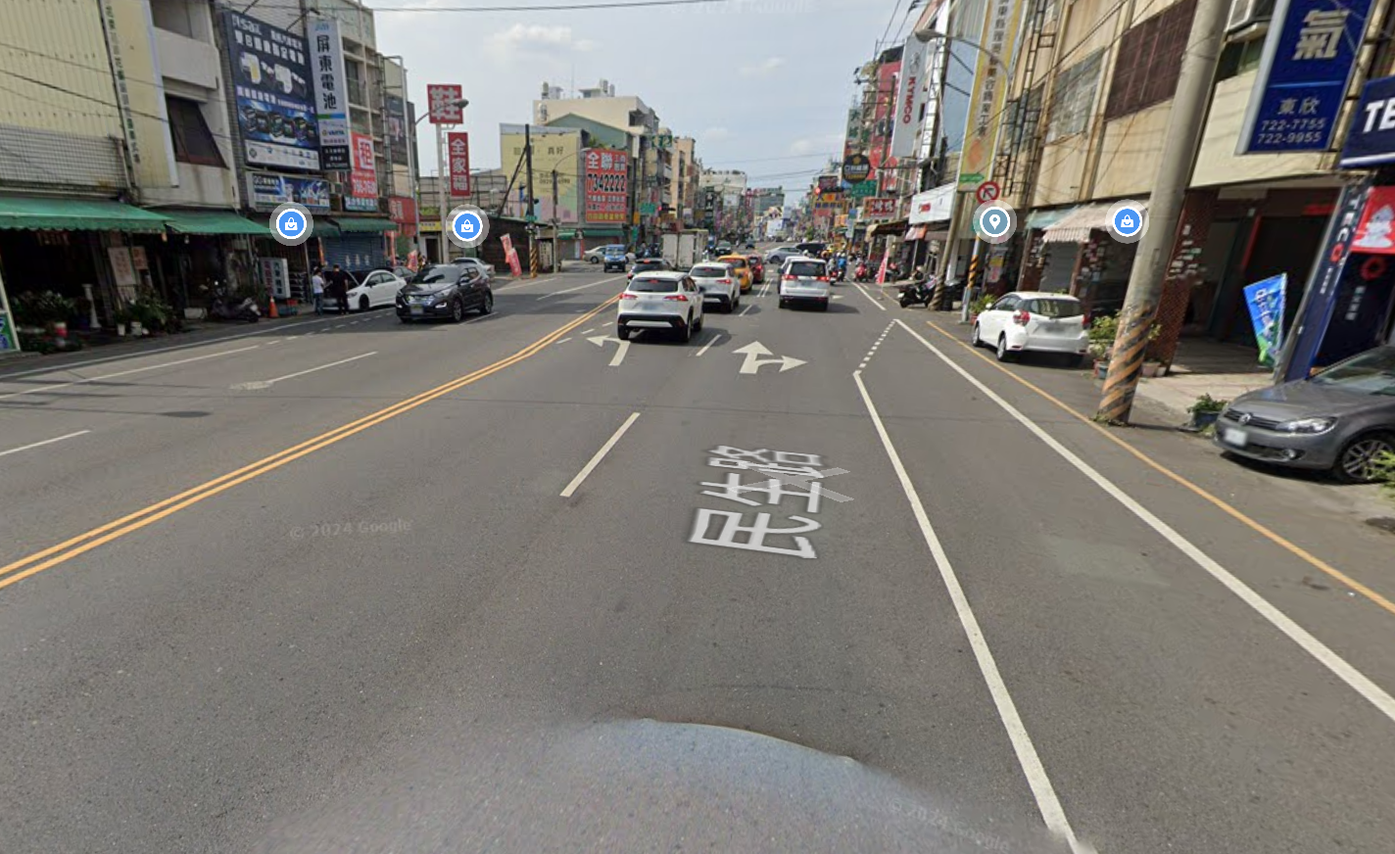red: (811, 183, 849, 197), (653, 201, 676, 212)
